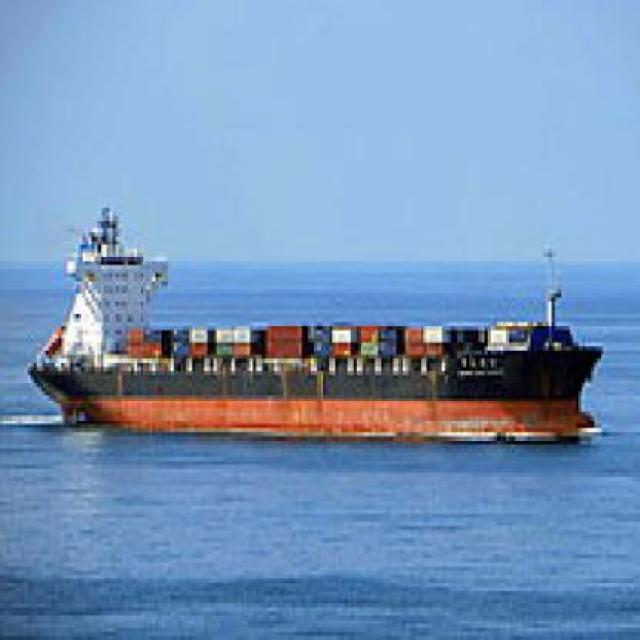container: (25, 189, 608, 453)
